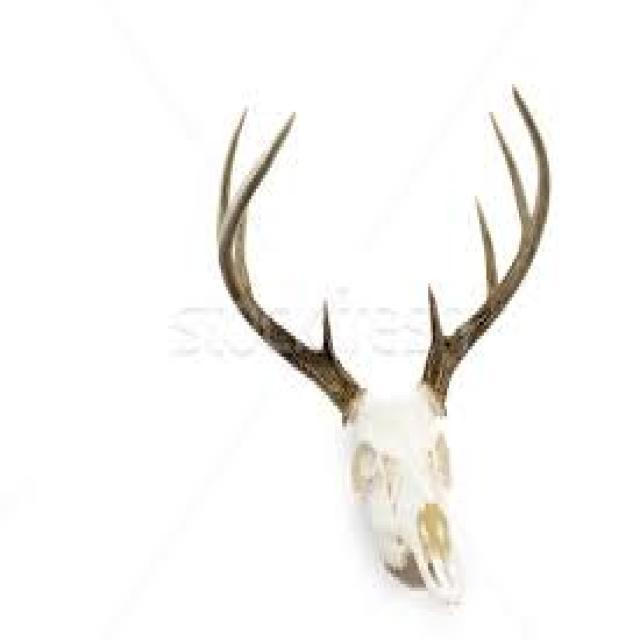L-F: (418, 83, 552, 416)
L-G1: (427, 280, 444, 343)
L-G2: (474, 193, 500, 299)
L-G3: (488, 110, 533, 241)
R-F: (218, 110, 366, 426)
R-G1: (322, 296, 335, 355)
